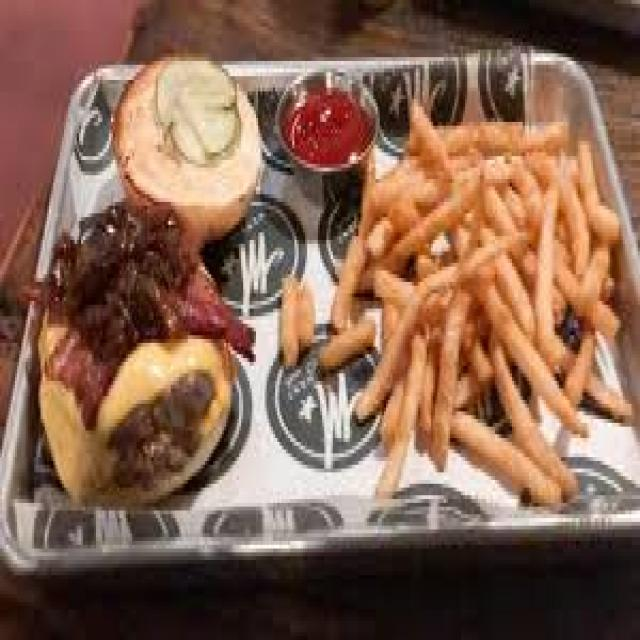Burger: (13, 49, 264, 510)
French Fries: (331, 95, 634, 507)
